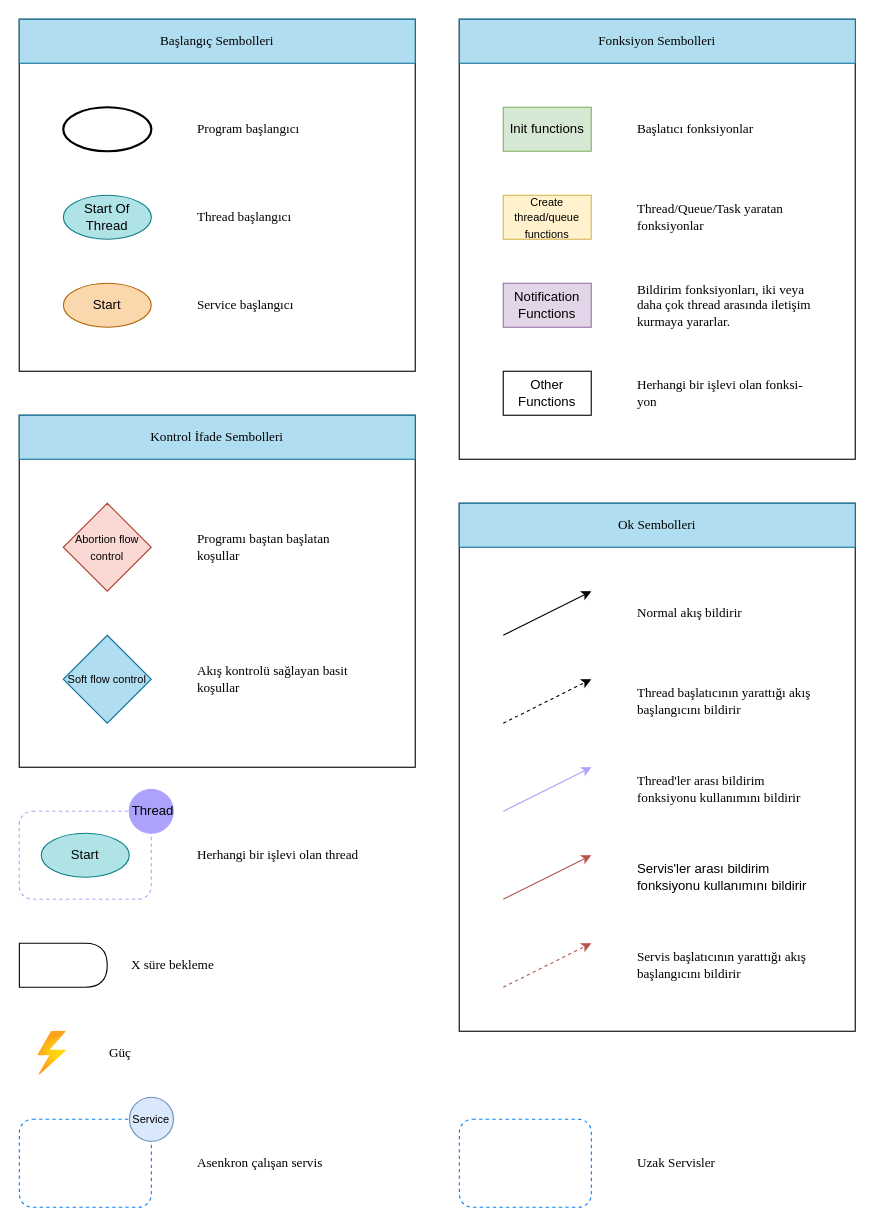
This 876x1227 diagram has some shape labels left out. Each missing label, with the centre of its shape:
Delay x: the point at 62,964
Power: the point at 51,1053
Start Of Program: the point at 107,129
